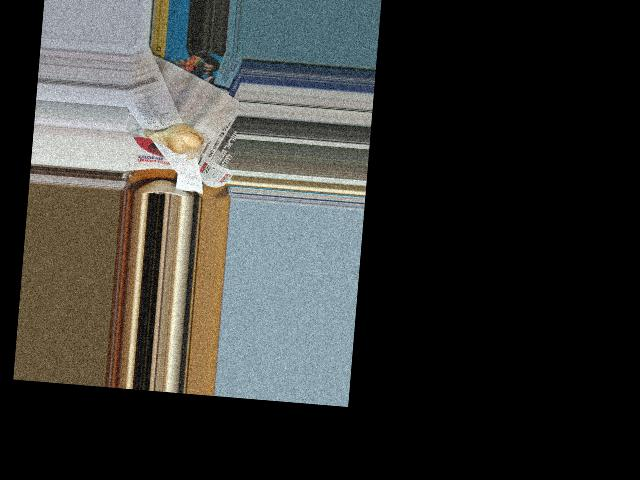onion: (145, 119, 203, 153)
